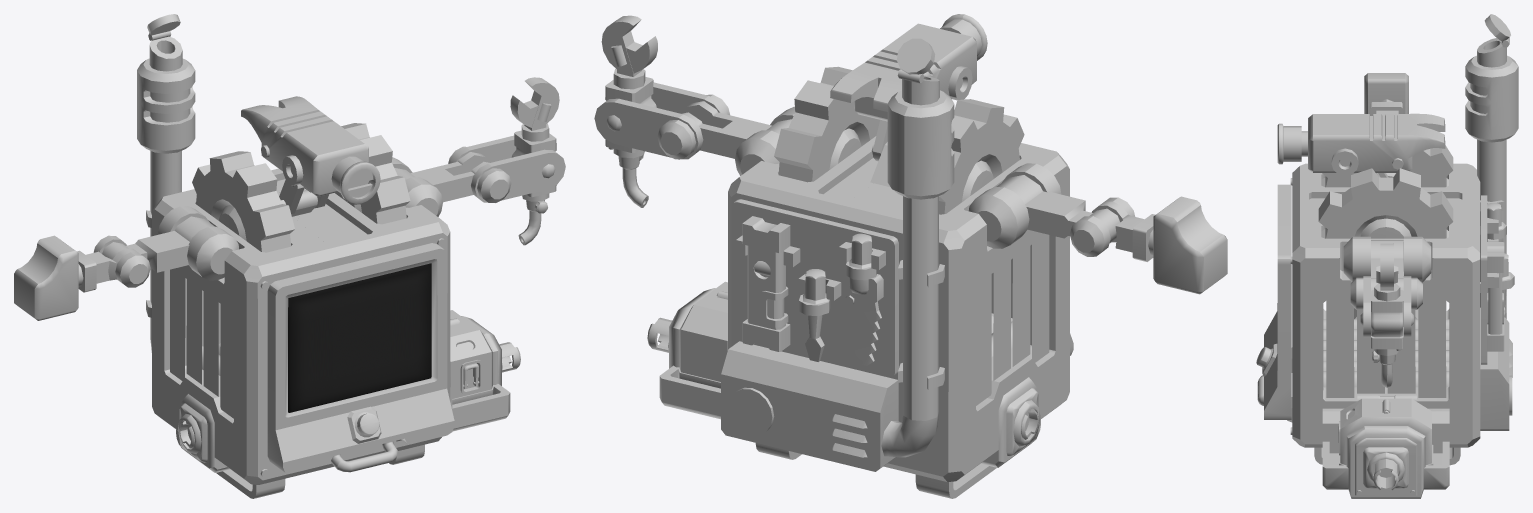
Rendered from char_craftbot_pose0.dae.
The picture shows the model from 3 angles, left to right: view 1: azimuth 30°, elevation 25°; view 2: azimuth 150°, elevation 25°; view 3: azimuth 270°, elevation 25°; orthographic projection. The views are drawn at different scales.
Visible parts, largest first — view 1: char_craftbot_pose0; view 2: char_craftbot_pose0; view 3: char_craftbot_pose0.
Boxes of the visible parts, box(x1,y1,x2,y2) form: char_craftbot_pose0: box(14, 14, 565, 498); char_craftbot_pose0: box(594, 14, 1227, 498); char_craftbot_pose0: box(1256, 14, 1518, 498).
Size of the model in its own units: 18.3 by 13.65 by 8.58.
